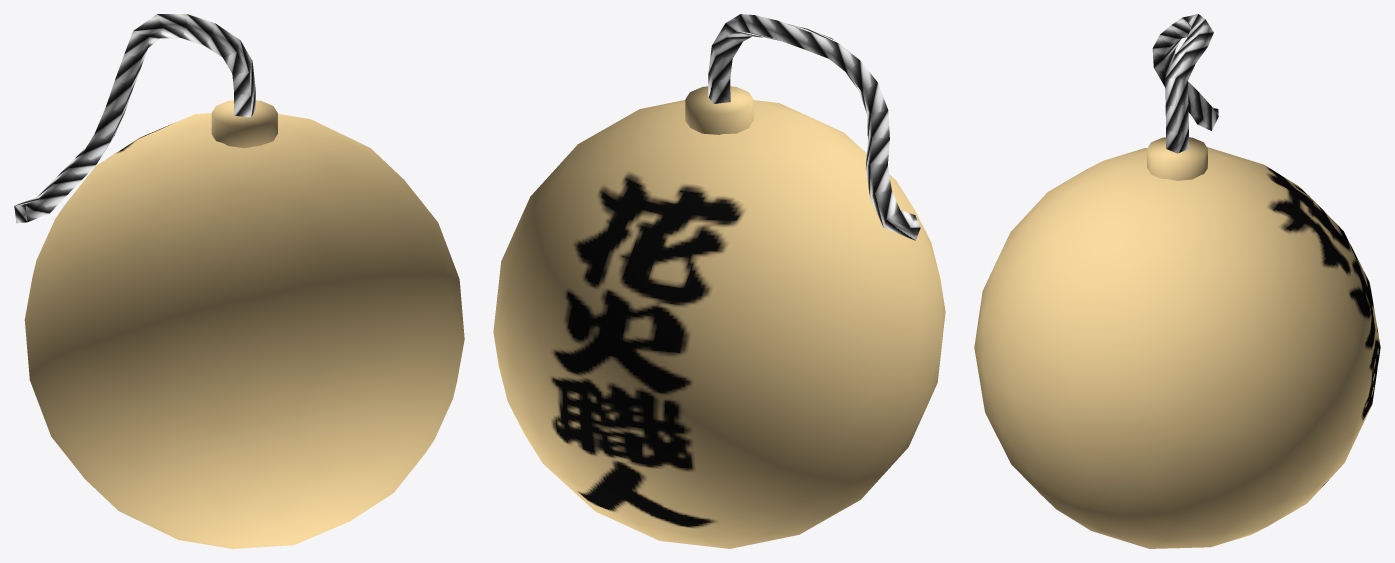
Rendered from icon1.ico.obj.
The picture shows the model from 3 angles, left to right: view 1: azimuth 30°, elevation 25°; view 2: azimuth 150°, elevation 25°; view 3: azimuth 270°, elevation 25°; orthographic projection. The views are drawn at different scales.
Size of the model in its own units: 2.62 by 3.26 by 2.5.
Materials: 1 (1 with a texture image).
